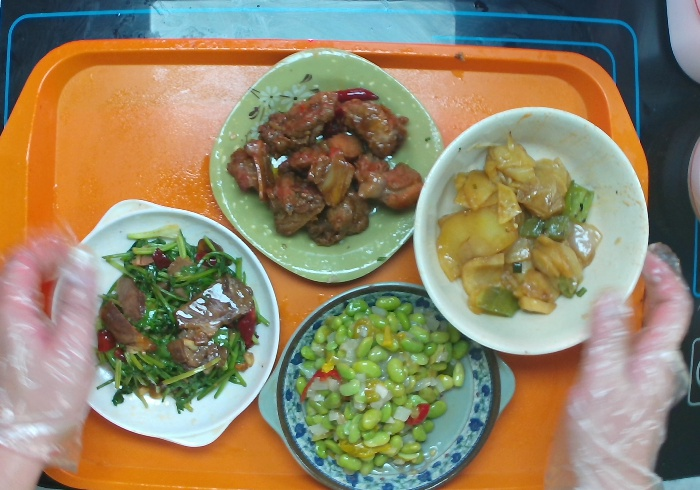NLDX-Bai_Se_Shuang_Er_Die: (51, 197, 281, 450)
NLDX-Bai_Se_Yuan_Wan: (413, 108, 649, 352)
NLDX-Lv_Hua_Fang_Die: (209, 48, 446, 284)
NLDX-Qing_Hua_Shuang_Er_Die: (256, 283, 518, 490)
